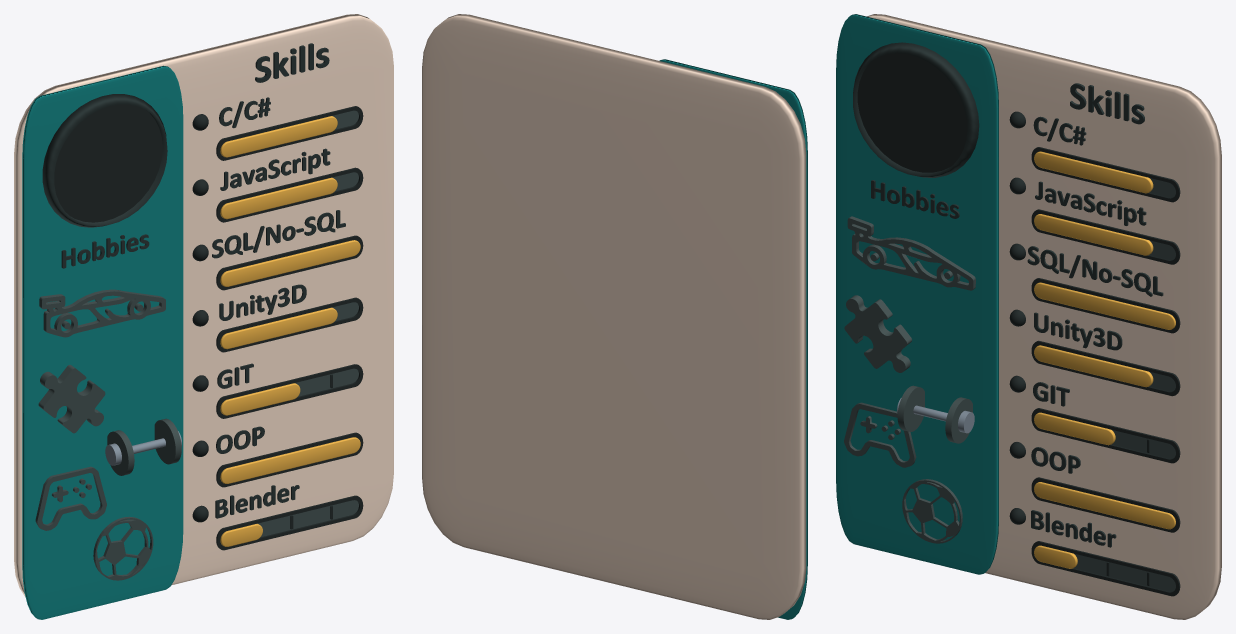
3 views of the same model, side by side, from view 1: azimuth 30°, elevation 25°; view 2: azimuth 150°, elevation 25°; view 3: azimuth 330°, elevation 25° (orthographic).
Parts seen in each view (by area): view 1: Main_Side, Left_Side, Picture, Picture_frame, Car, Puzzle, Circle Progress.001, Circle Progress.002, Circle Progress.007, Circle Progress.006, Circle Progress, Ball (+22 smaller); view 2: Main_Side, Left_Side; view 3: Main_Side, Left_Side, Picture, Car, Picture_frame, Puzzle, Circle Progress.001, Circle Progress.002, Circle Progress, Circle Progress.007, Circle Progress.006, Ball (+22 smaller).
Part boxes in pixels (x1,y1,x2,y2): Main_Side: [14, 14, 393, 596]; Left_Side: [22, 65, 183, 619]; Picture: [54, 104, 162, 222]; Picture_frame: [42, 94, 167, 227]; Car: [39, 289, 165, 337]; Puzzle: [38, 365, 105, 433]; Circle Progress.001: [220, 240, 360, 286]; Circle Progress.002: [220, 437, 360, 483]; Circle Progress.007: [220, 307, 337, 349]; Circle Progress.006: [220, 177, 337, 219]; Circle Progress: [220, 116, 337, 157]; Ball: [93, 516, 153, 580]; Main_Side: [422, 14, 806, 619]; Left_Side: [659, 59, 807, 619]; Main_Side: [867, 14, 1221, 619]; Left_Side: [836, 14, 998, 574]; Picture: [857, 53, 967, 172]; Car: [847, 216, 975, 290]; Picture_frame: [853, 42, 979, 177]; Puzzle: [844, 295, 911, 372]; Circle Progress.001: [1034, 282, 1175, 329]; Circle Progress.002: [1034, 482, 1175, 529]; Circle Progress: [1034, 151, 1153, 193]; Circle Progress.007: [1034, 345, 1153, 387]; Circle Progress.006: [1034, 214, 1153, 255]; Ball: [902, 479, 962, 543].
Size of the model in its own units: 3 by 4 by 0.433.
